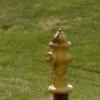Hydrant: (41, 25, 73, 98)
